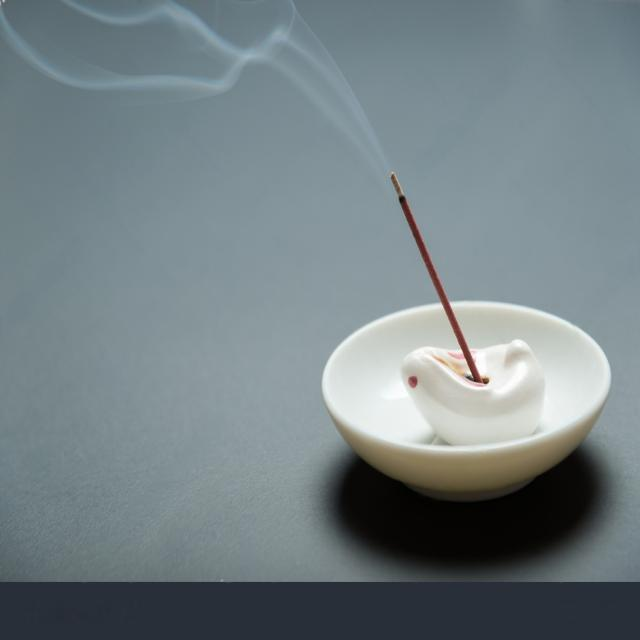Agarbatti: (379, 160, 484, 382)
